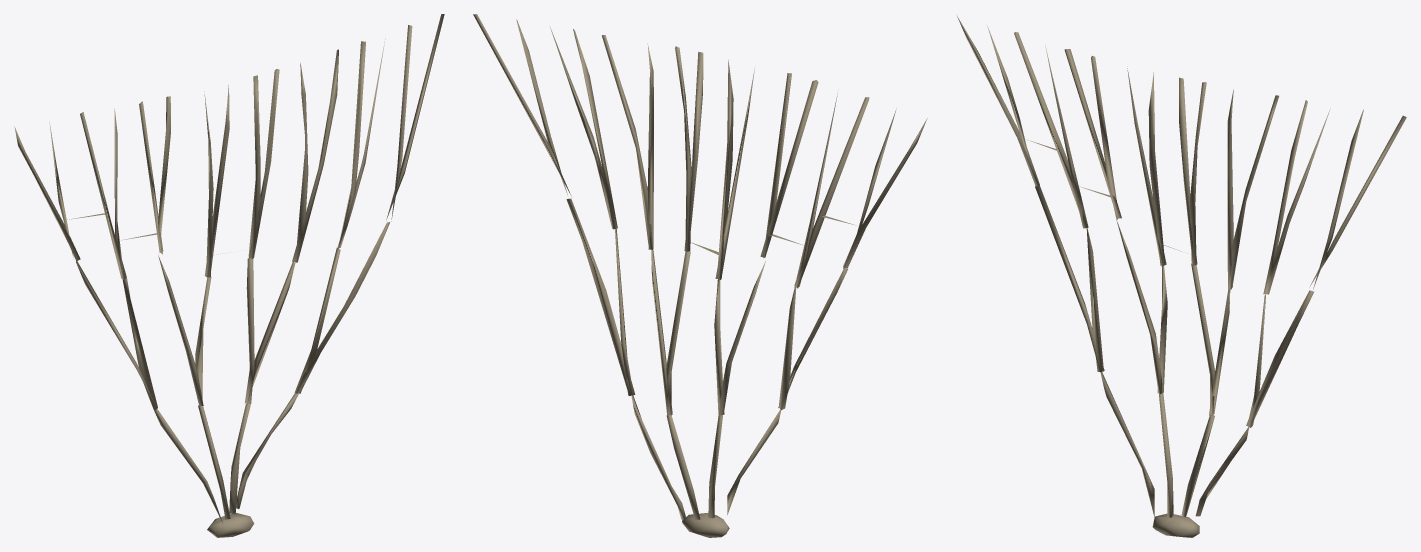
File: devonian-bryozoan.lod1.glb
3 renders of one model, left to right at view 1: azimuth 30°, elevation 25°; view 2: azimuth 150°, elevation 25°; view 3: azimuth 330°, elevation 25°, orthographic. The views are drawn at different scales.
Parts seen in each view (by area): view 1: devonian-bryozoan; view 2: devonian-bryozoan; view 3: devonian-bryozoan.
Boxes of the visible parts, bbox=[...] form: devonian-bryozoan: bbox=[14, 14, 444, 537]; devonian-bryozoan: bbox=[473, 14, 927, 537]; devonian-bryozoan: bbox=[957, 16, 1406, 537].
Size of the model in its own units: 0.8961 by 0.9 by 0.0843.
